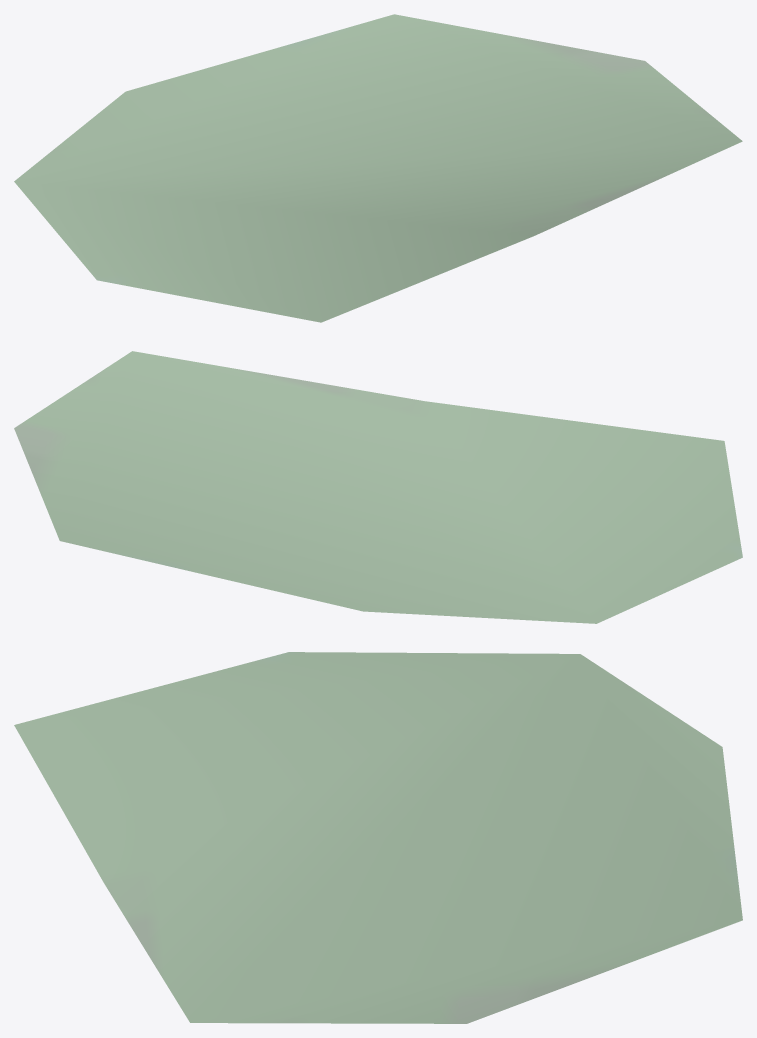
File: TROLLHOLE02_HOLECAP24.fbx
The picture shows the model from 3 angles, top to bottom: view 1: azimuth 30°, elevation 25°; view 2: azimuth 150°, elevation 25°; view 3: azimuth 270°, elevation 25°; orthographic projection. The views are drawn at different scales.
Parts seen in each view (by area): view 1: TROLLHOLE02_HOLECAP24; view 2: TROLLHOLE02_HOLECAP24; view 3: TROLLHOLE02_HOLECAP24.
Part boxes in pixels (x1,y1,x2,y2): TROLLHOLE02_HOLECAP24: (14,14,742,322); TROLLHOLE02_HOLECAP24: (14,351,742,623); TROLLHOLE02_HOLECAP24: (14,652,742,1023).
Bounding box in the file's own units: 29760 × 1222 × 23008.
1 material, 1 textured.
